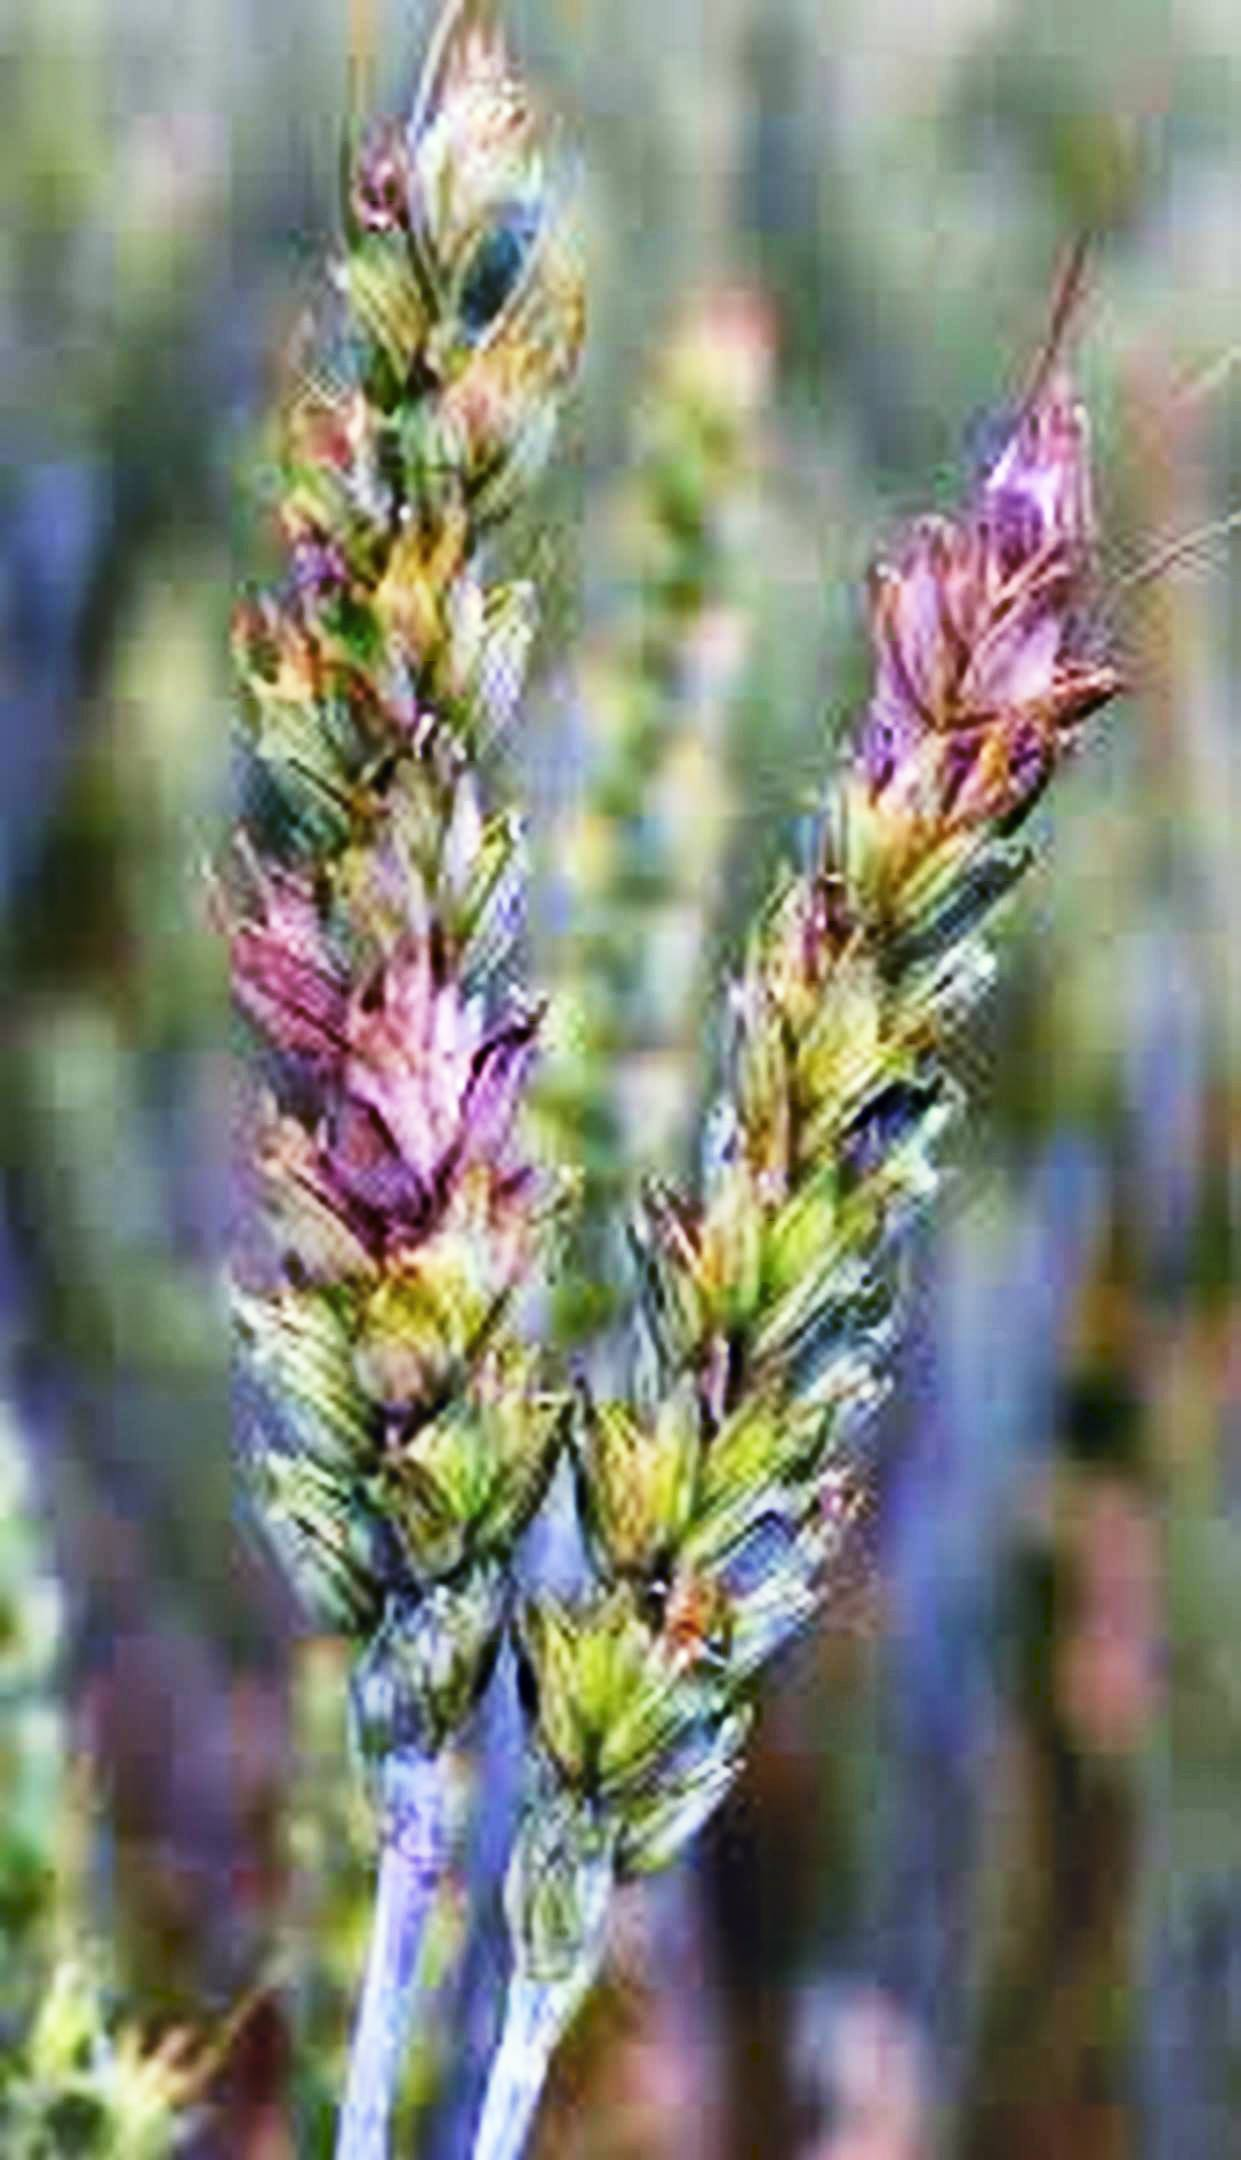Wheat scab: (193, 45, 577, 1654)
